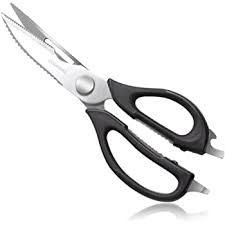tihiras: (2, 2, 221, 210)
